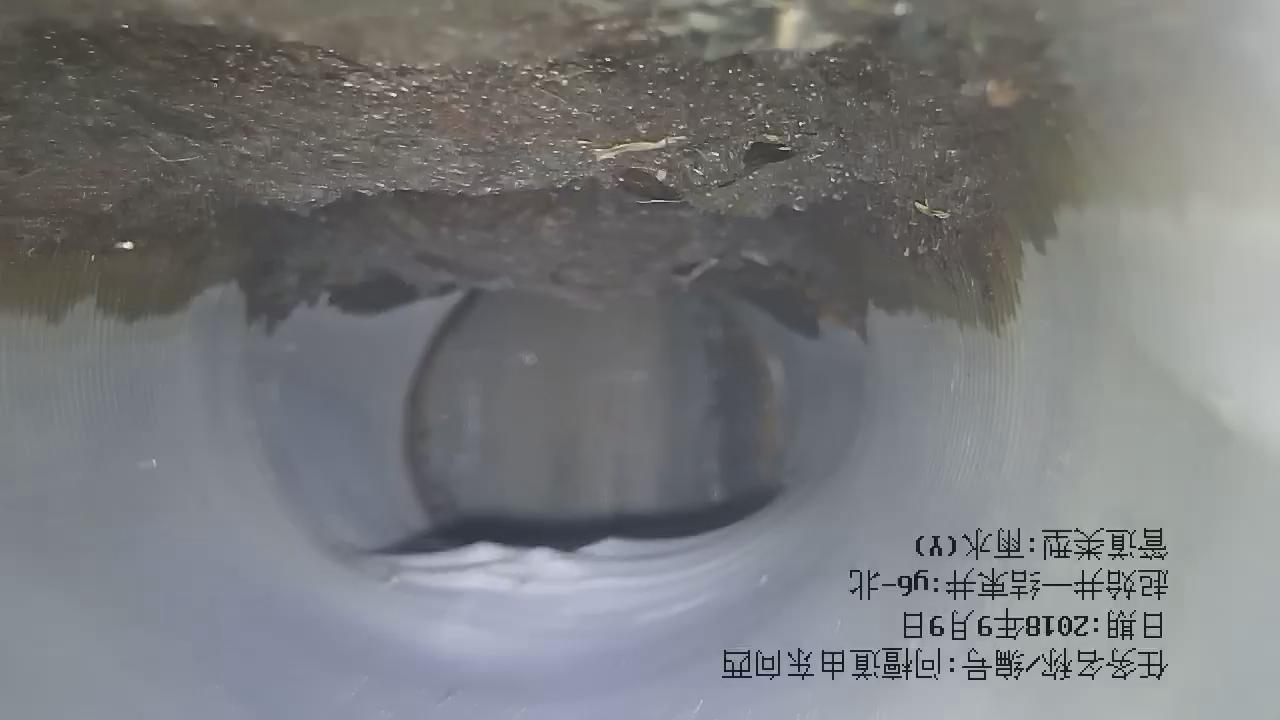BX: (296, 495, 765, 602)
CJ: (1, 1, 1073, 331)
